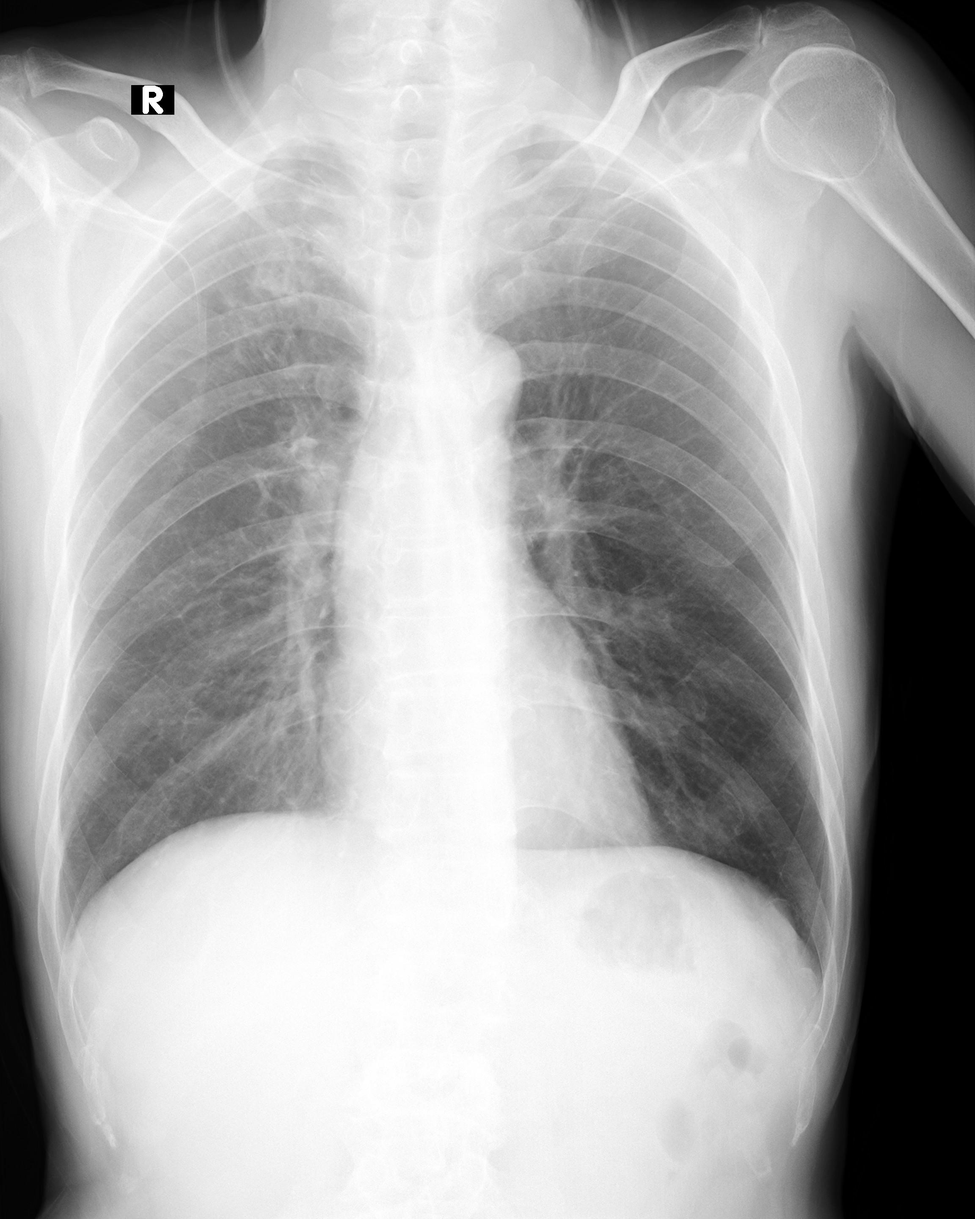Pleural thickening: (463, 130, 667, 218)
Pulmonary fibrosis: (164, 136, 359, 394), (501, 152, 688, 309)
